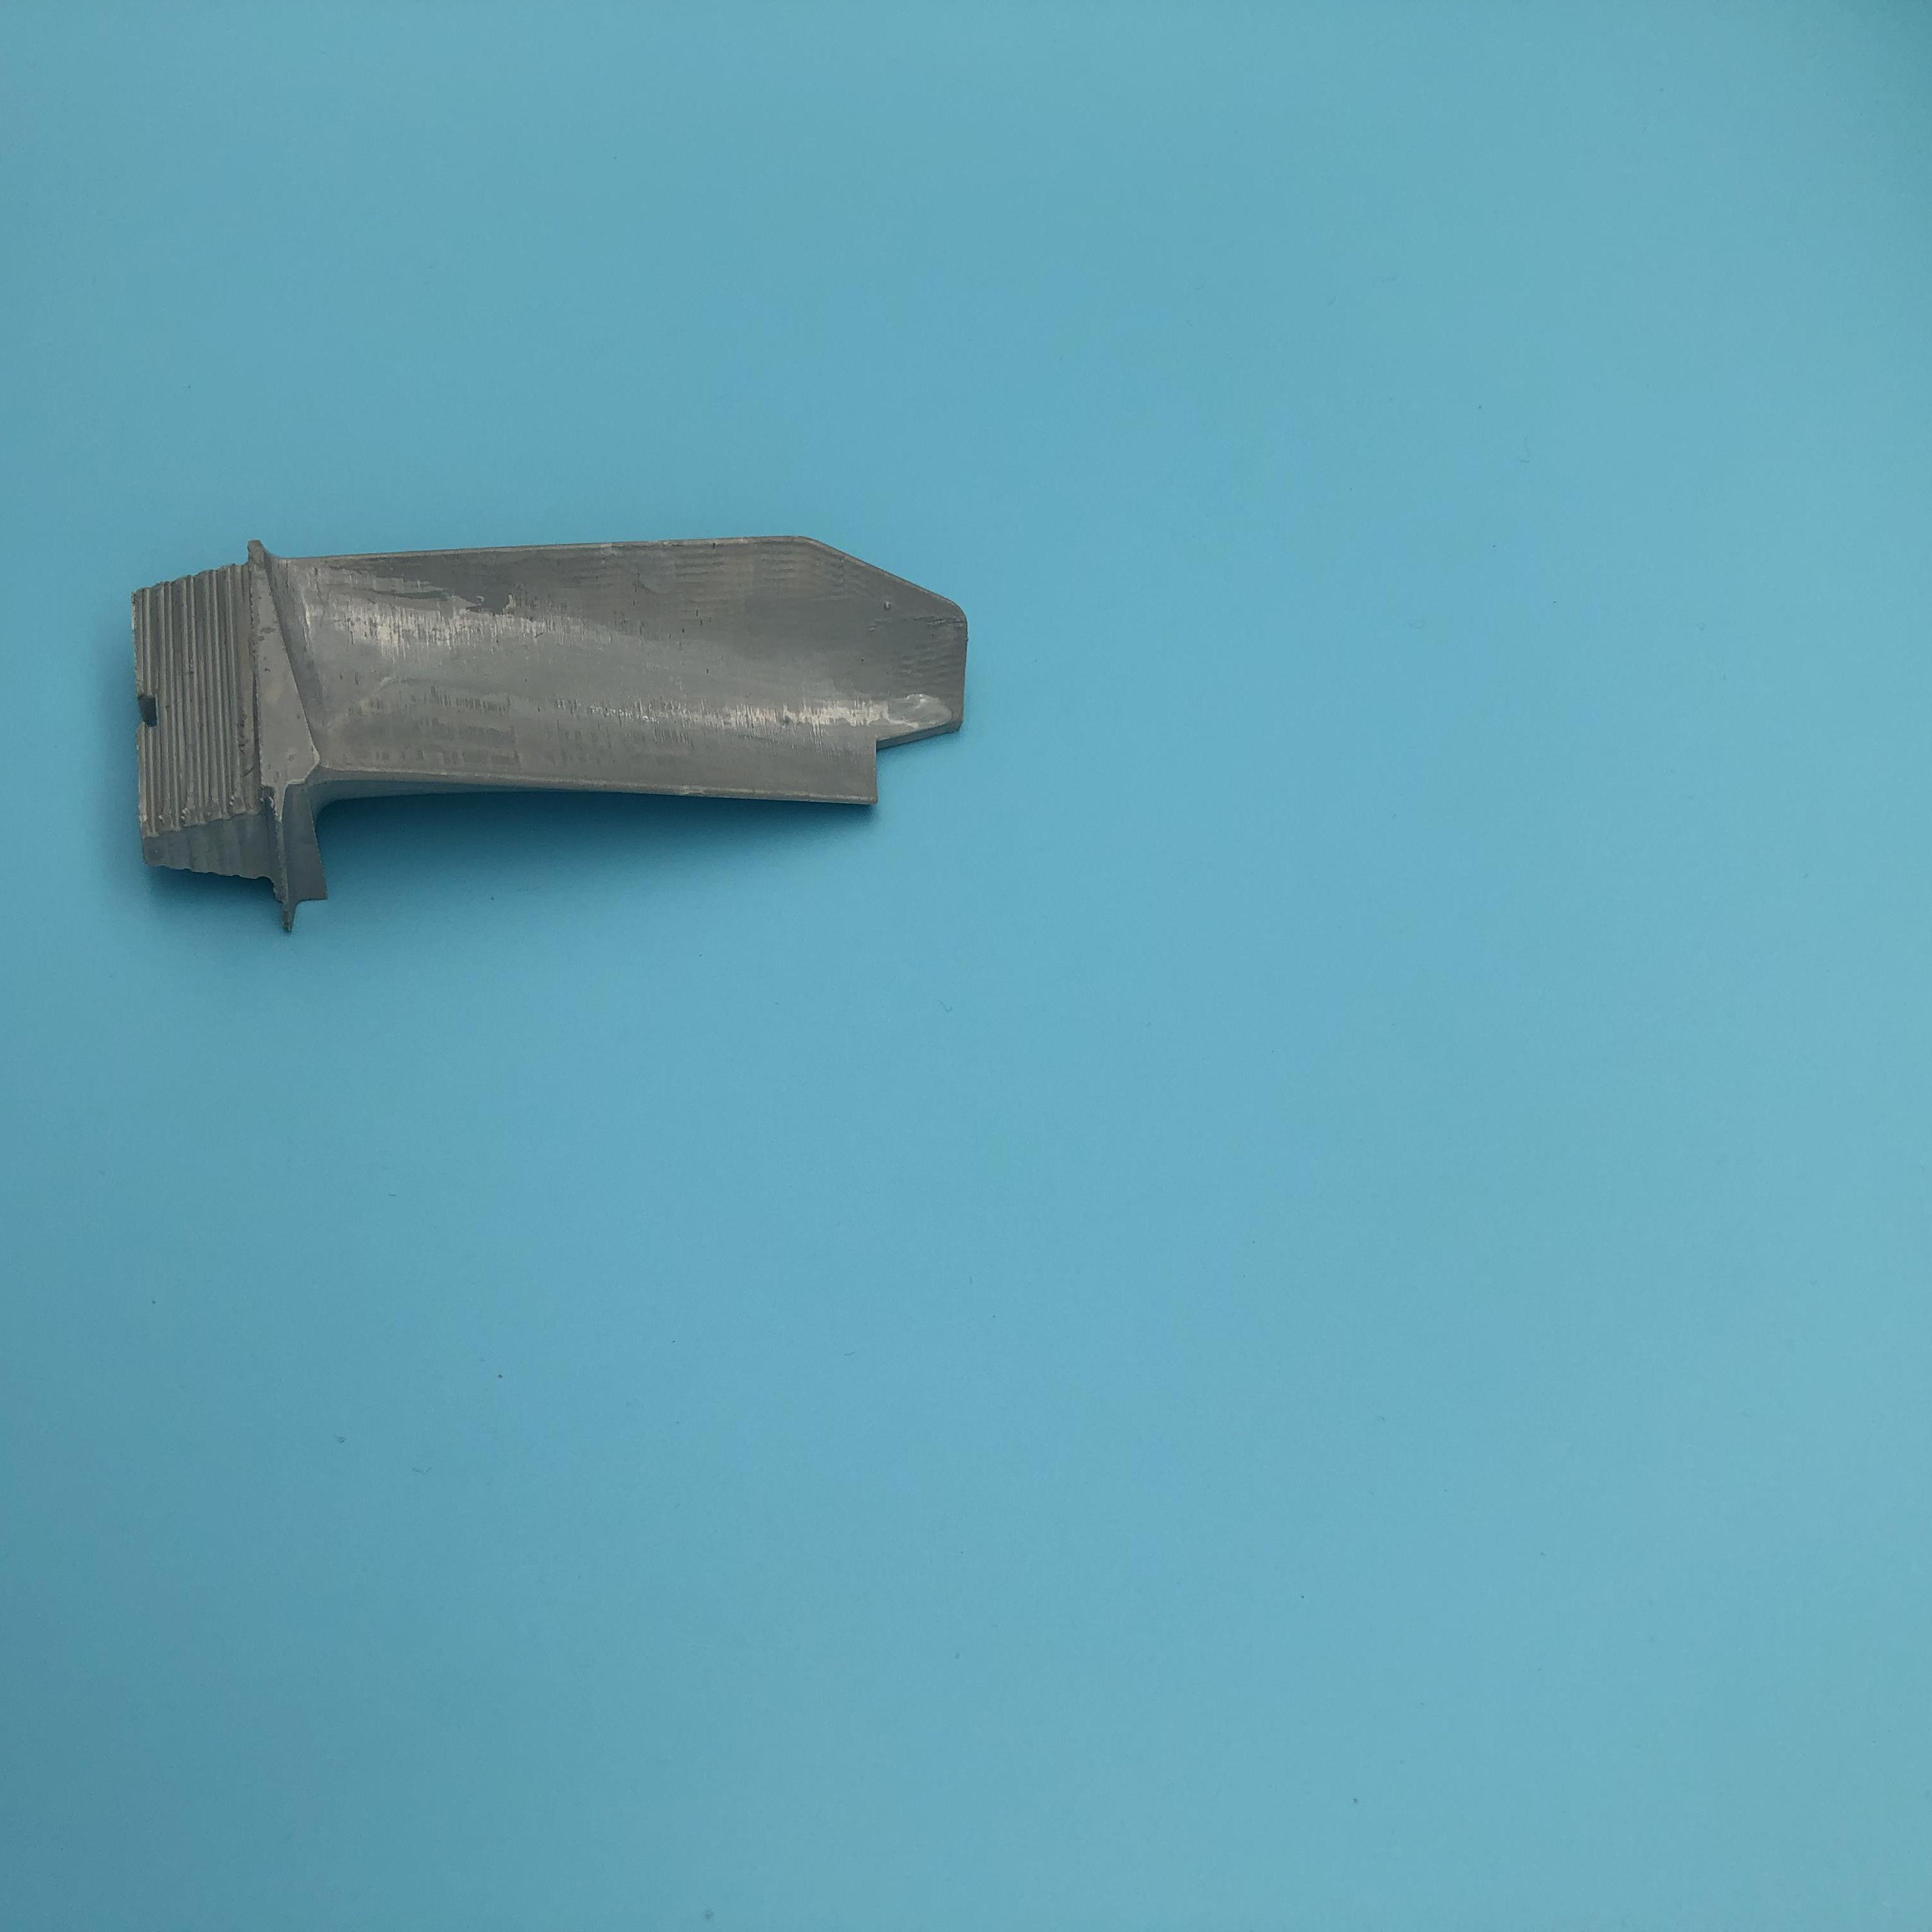fracture: (867, 720, 952, 807)
